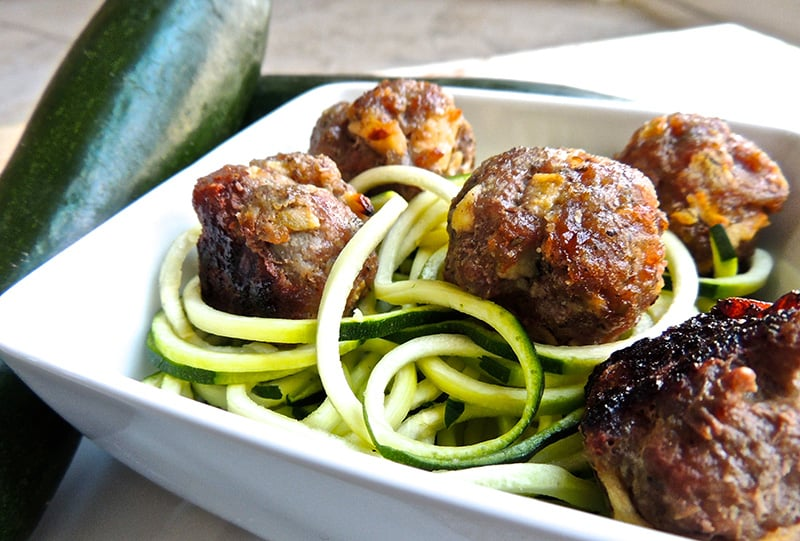meatballs: (608, 312, 800, 535), (451, 151, 651, 324), (188, 163, 376, 312), (625, 118, 782, 238), (316, 84, 470, 182)
